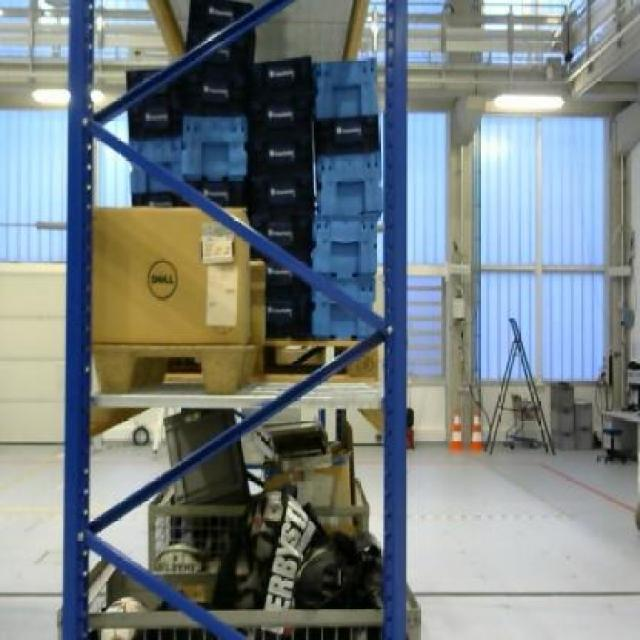box: (92, 205, 252, 347)
